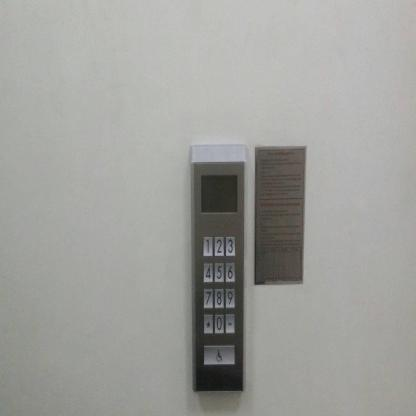-: (225, 314, 235, 334)
0: (214, 314, 224, 333)
1: (203, 237, 213, 256)
2: (214, 236, 224, 257)
3: (225, 236, 235, 256)
4: (203, 262, 213, 282)
5: (214, 262, 224, 282)
6: (225, 262, 235, 282)
7: (203, 288, 213, 308)
8: (214, 288, 224, 308)
9: (224, 288, 234, 308)
CH: (204, 346, 235, 364)
led: (200, 174, 238, 214)
s: (203, 314, 213, 334)
